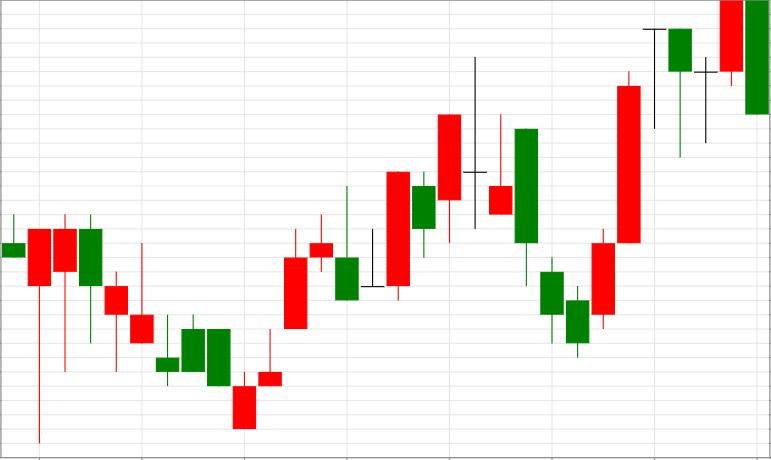evening_star_fall: (233, 187, 359, 429)
hanging_man_fall: (566, 28, 692, 357)
